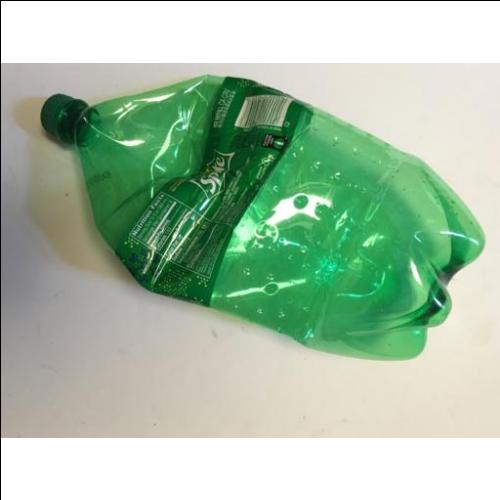plastic: (42, 74, 485, 359)
